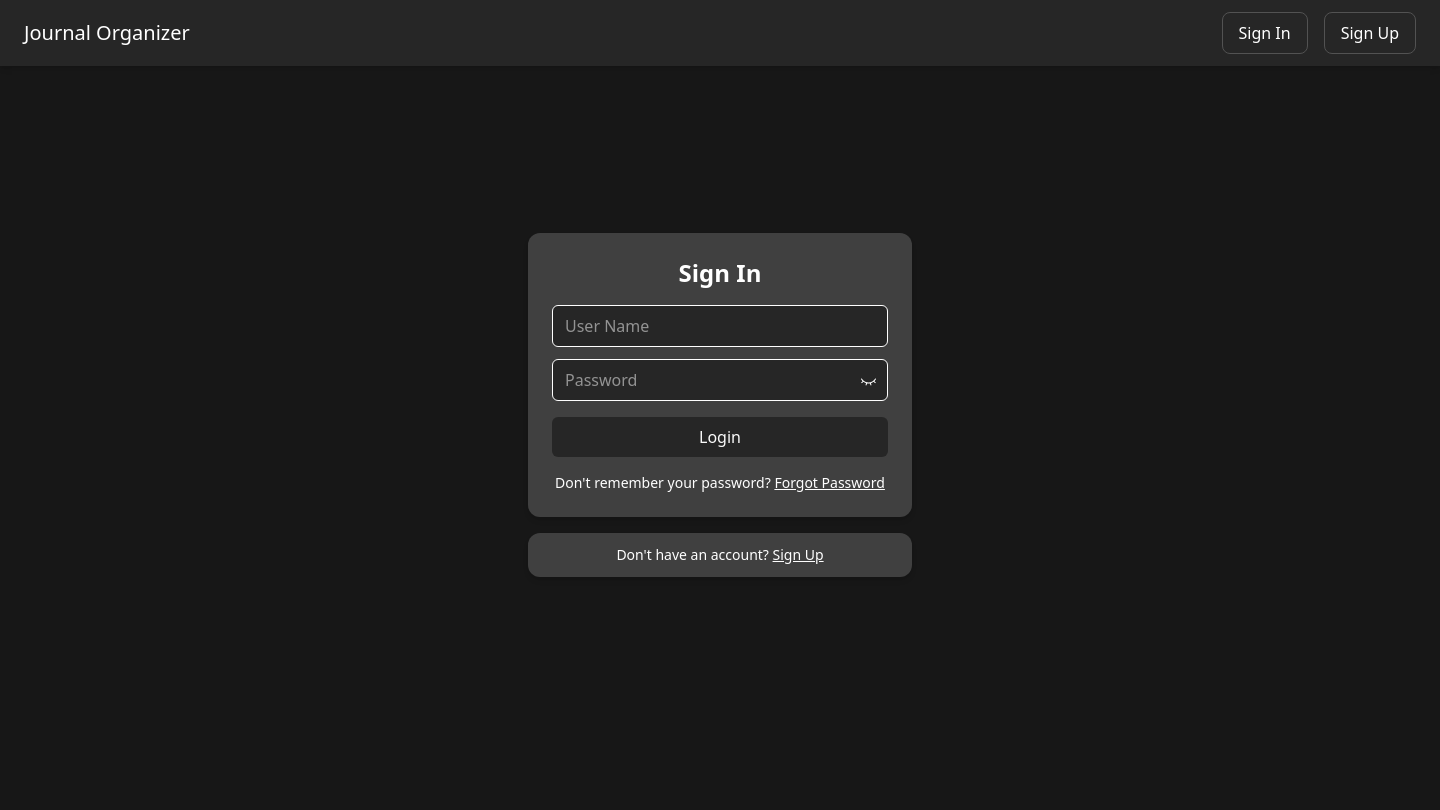
Test case: Login Component › toggles password visibility when eye icon is clicked
The width and height of the screenshot is (1440, 810).
Click the picture with alt text "Hide password". click: (868, 380)
box: [861,372,876,388]
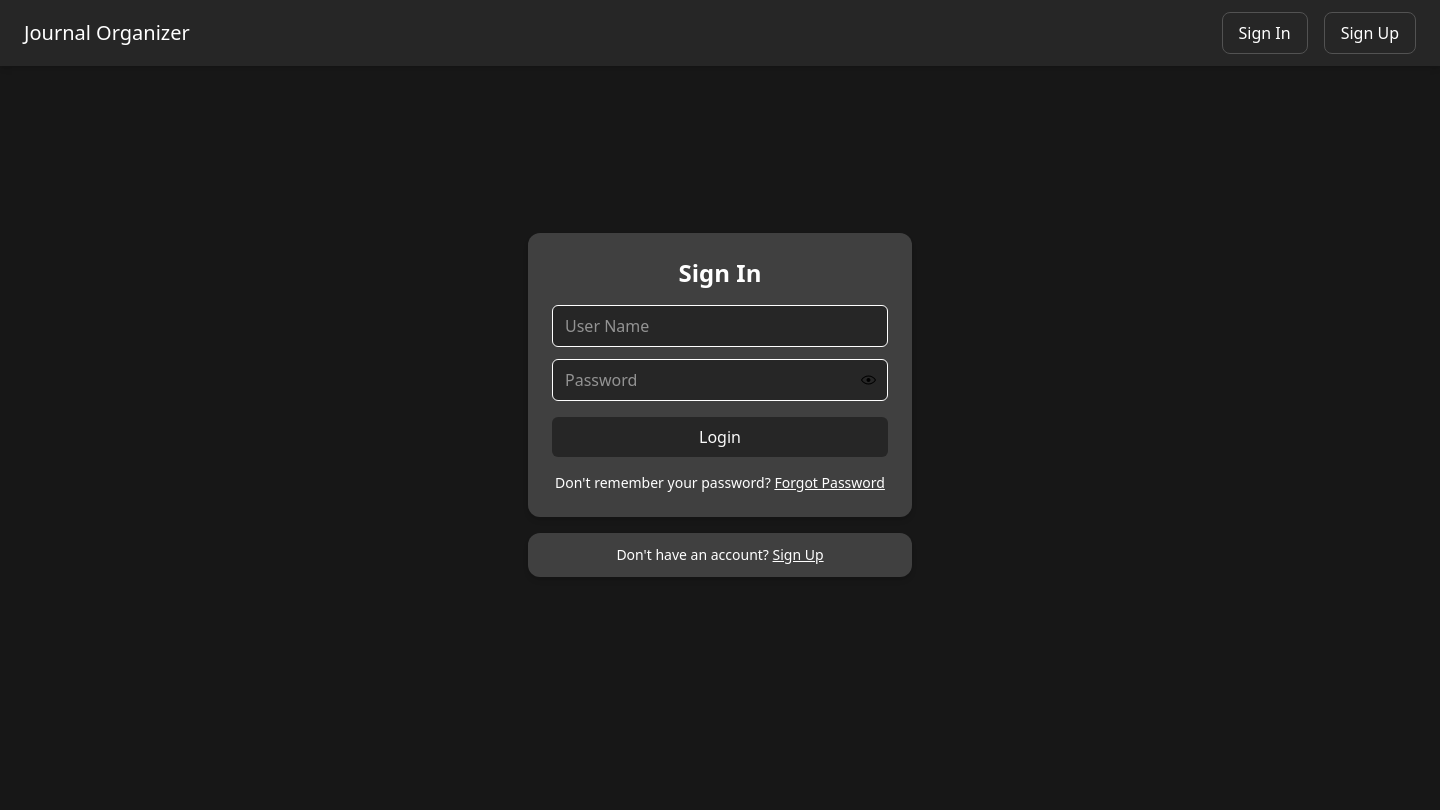
expect the picture with alt text "Show password" is shown: met, box [861,372,876,388]
